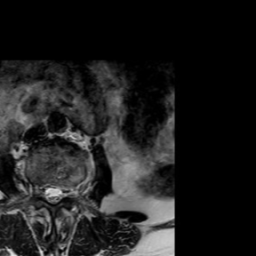CCS_normal: (49, 177, 56, 213)
LFS_normal: (64, 178, 72, 205)
LLS_normal: (56, 178, 64, 207)
RFS_normal: (34, 174, 42, 204)
RLS_normal: (42, 177, 49, 207)
